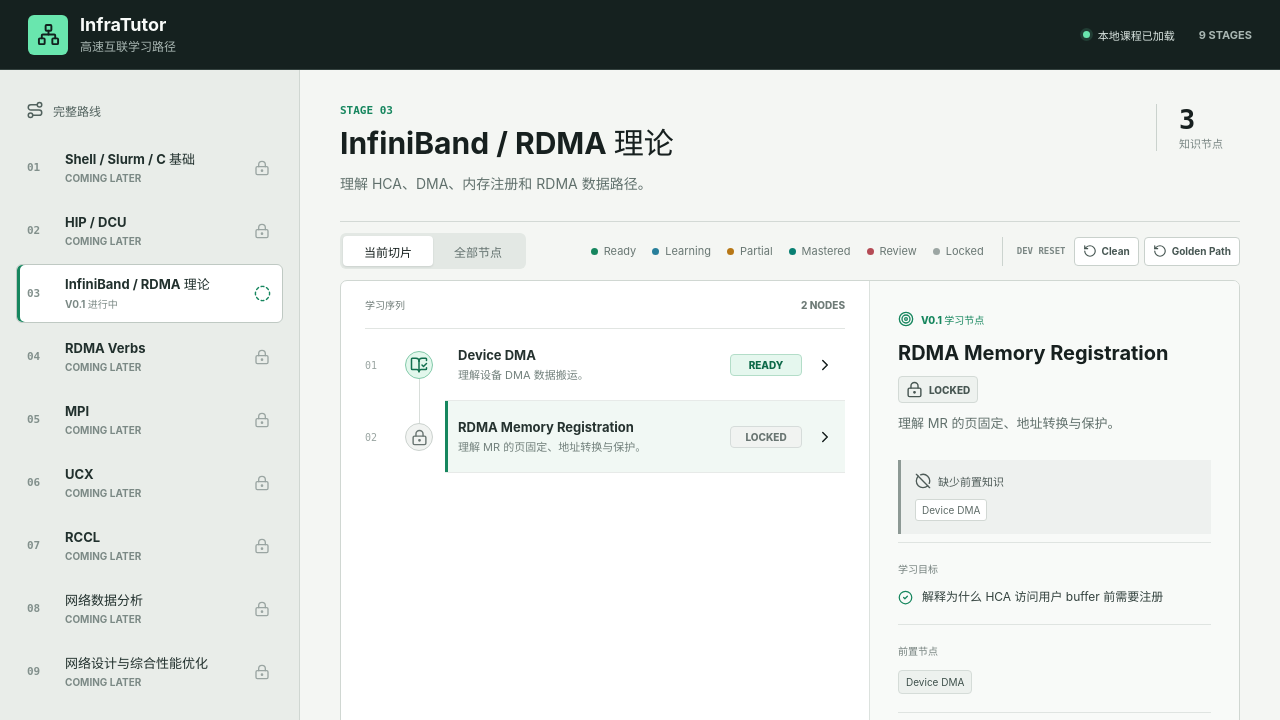
roadmap application › confirms a Golden Path reset and refreshes learner statuses
Check: the heading "InfiniBand / RDMA 理论" is shown, box top-left (340, 125), bottom-right (674, 161)
Click the button "Golden Path" at (1192, 251), box top-left (1144, 237), bottom-right (1240, 266)
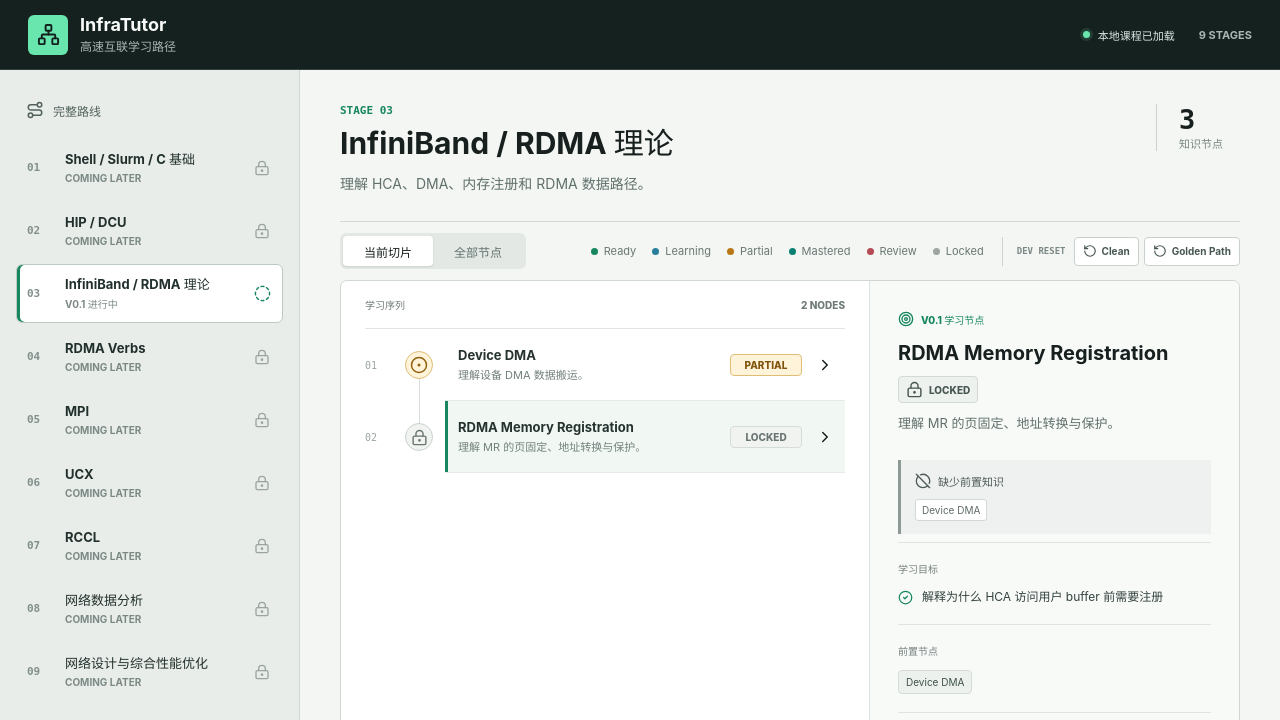
Check: the text "PARTIAL" is shown, box top-left (730, 354), bottom-right (802, 376)
